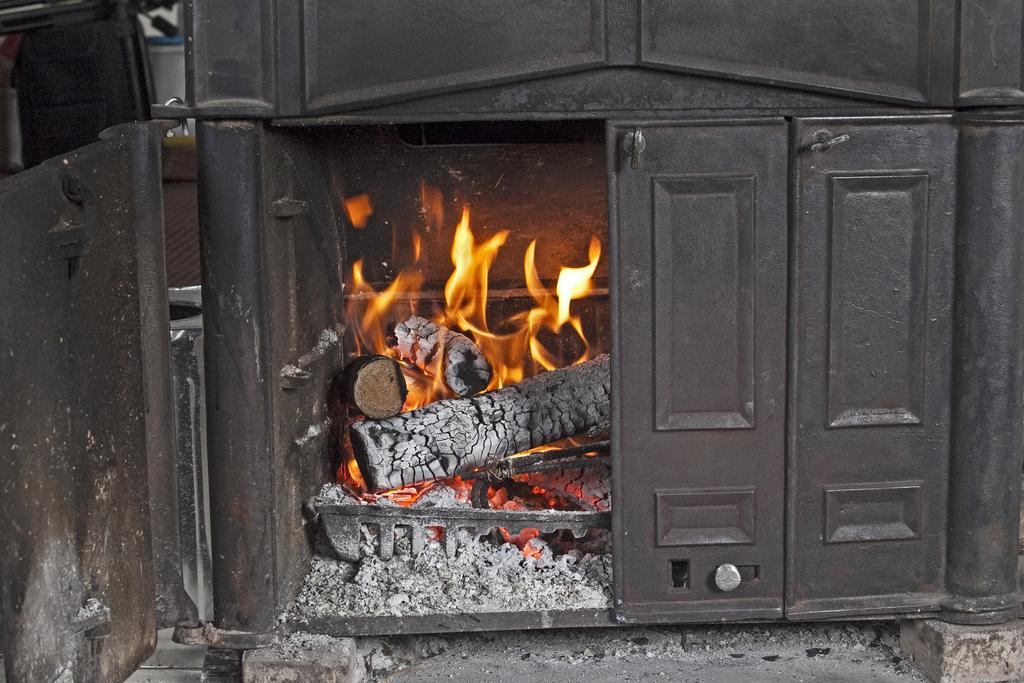Fire: (325, 182, 601, 408)
